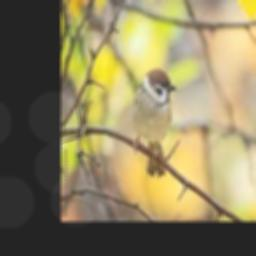Sparrow: (133, 71, 176, 175)
